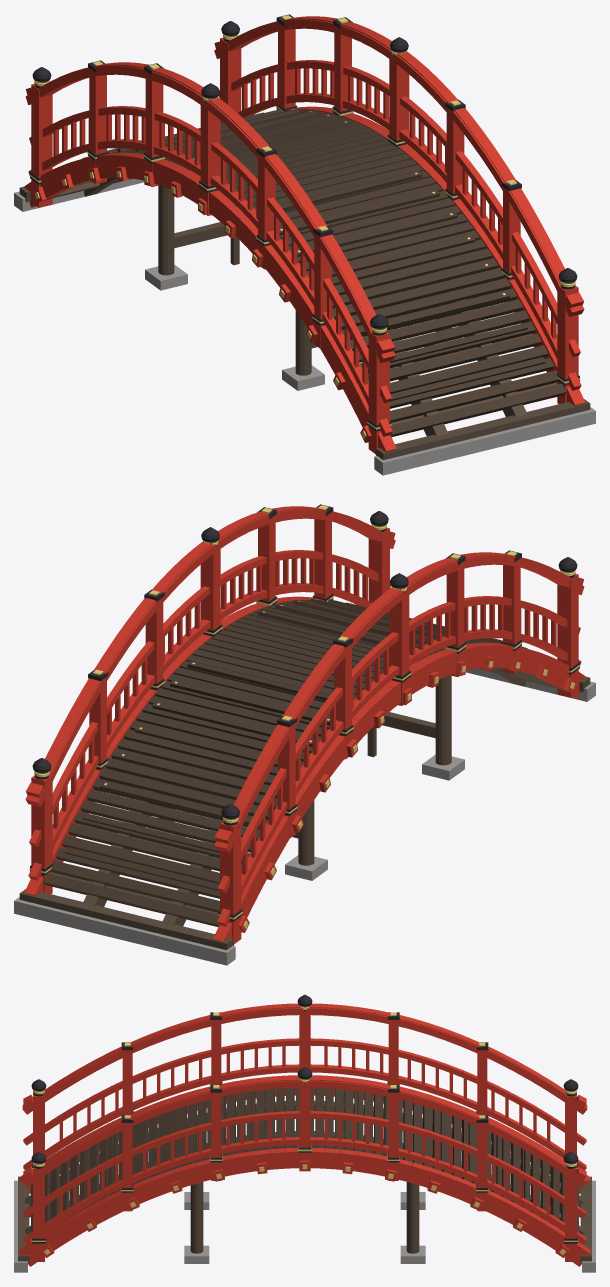
Rendered from red_arched_bridge.glb.
3 views of the same model, one above another, from view 1: azimuth 30°, elevation 25°; view 2: azimuth 150°, elevation 25°; view 3: azimuth 270°, elevation 25° (orthographic). The views are drawn at different scales.
Visible parts, largest first — view 1: RedArchedBridge; view 2: RedArchedBridge; view 3: RedArchedBridge.
Part boxes in pixels (x1,y1,x2,y2): RedArchedBridge: (14, 14, 595, 475); RedArchedBridge: (14, 504, 595, 965); RedArchedBridge: (14, 994, 595, 1272).
Size of the model in its own units: 1.4 by 1.6 by 4.2.
